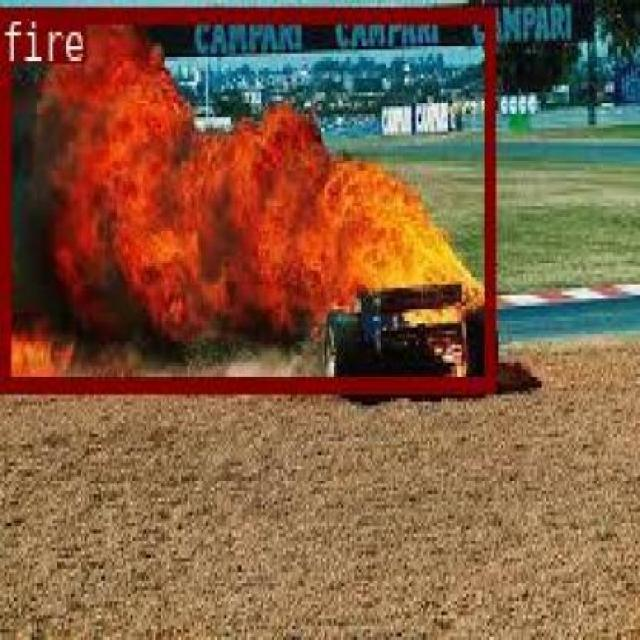fire: (0, 4, 491, 390)
